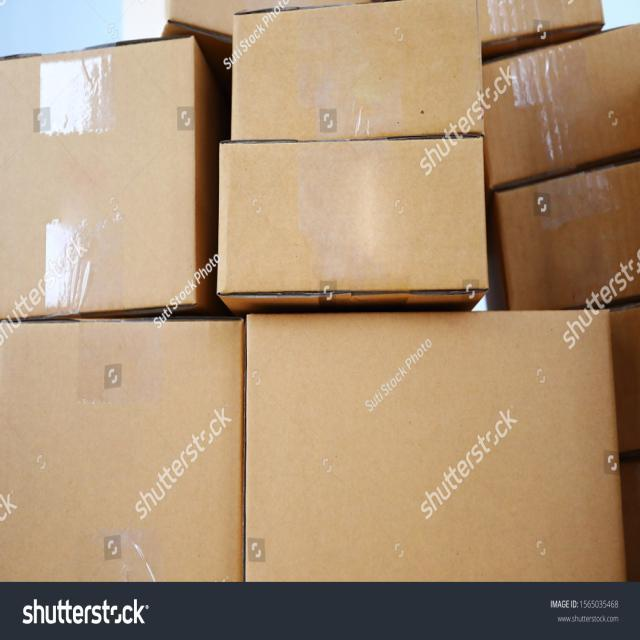BoxFace: (244, 315, 626, 585), (0, 320, 243, 582), (0, 43, 197, 326), (222, 136, 488, 296), (230, 0, 483, 145), (489, 27, 640, 189)
